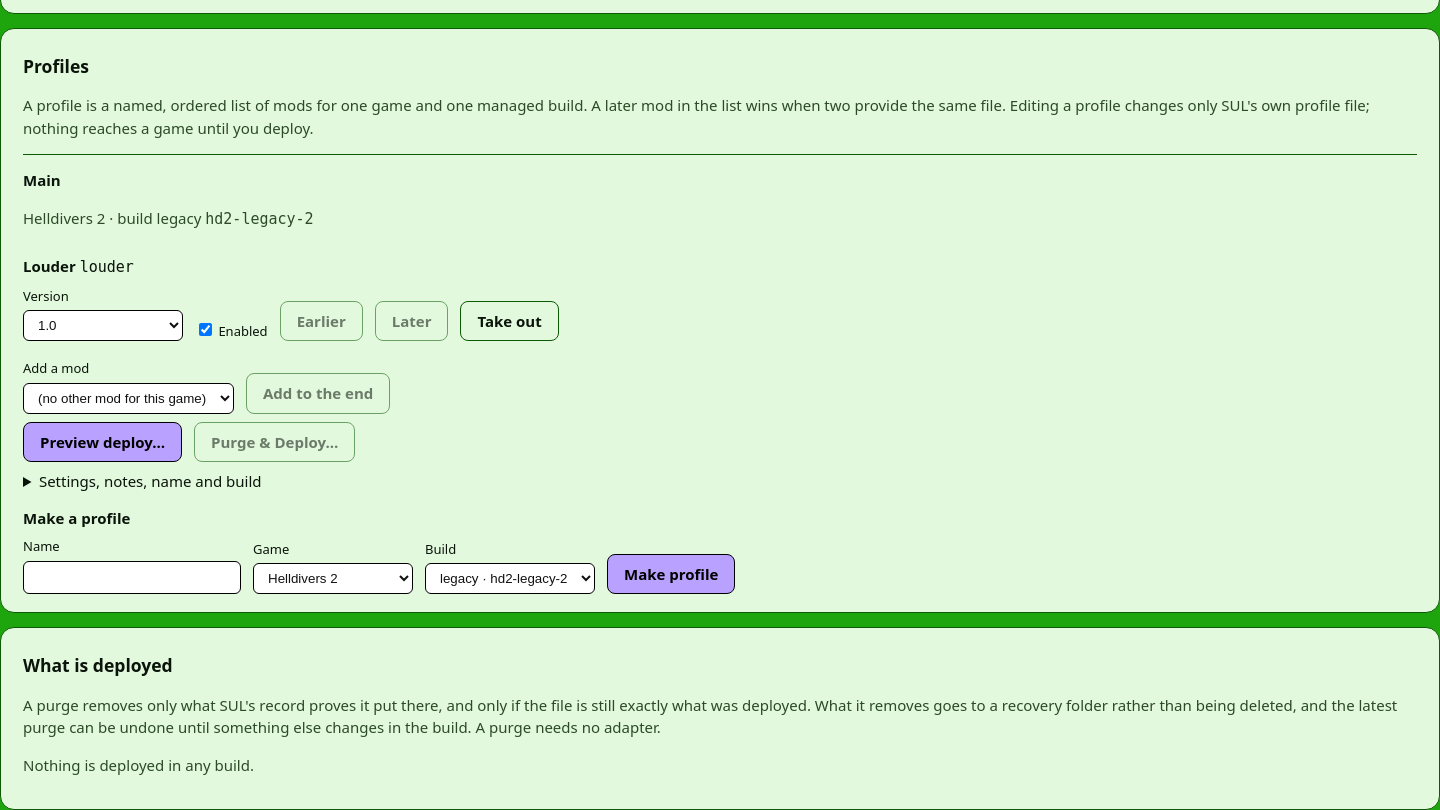
deploy, purge and undo ask before they change anything › a blocked preview names what blocks it and its Deploy button is disabled; nothing is sent
Later steps or results of the test are not shown.
(page scrolled)
Click the button "Preview deploy…": (103, 442) [23, 422, 182, 462]
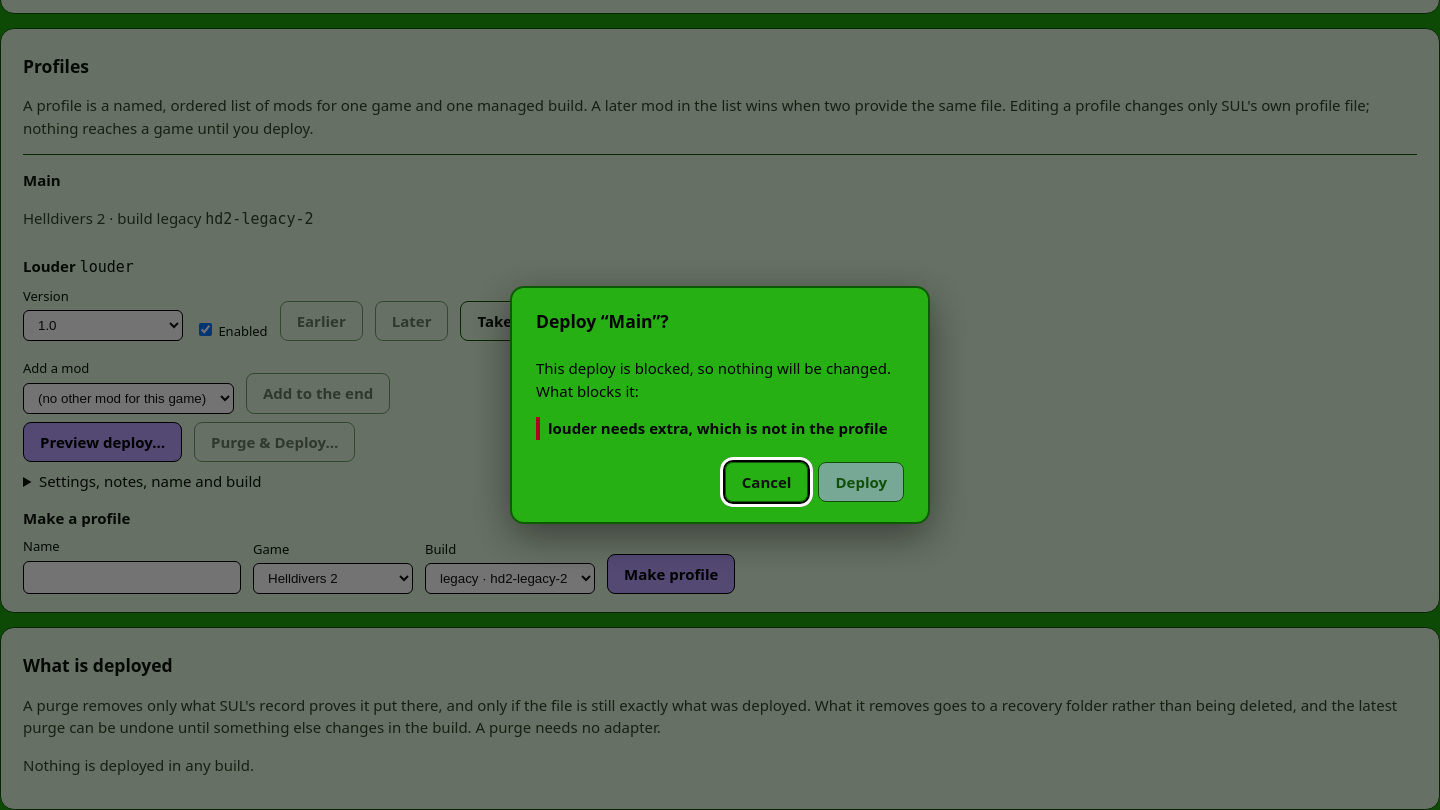
Now the dialog shows "This deploy is blocked, so nothing will be changed", box [536, 358, 891, 401]
Now the dialog shows "louder needs extra, which is not in the profile", box [548, 418, 888, 438]
